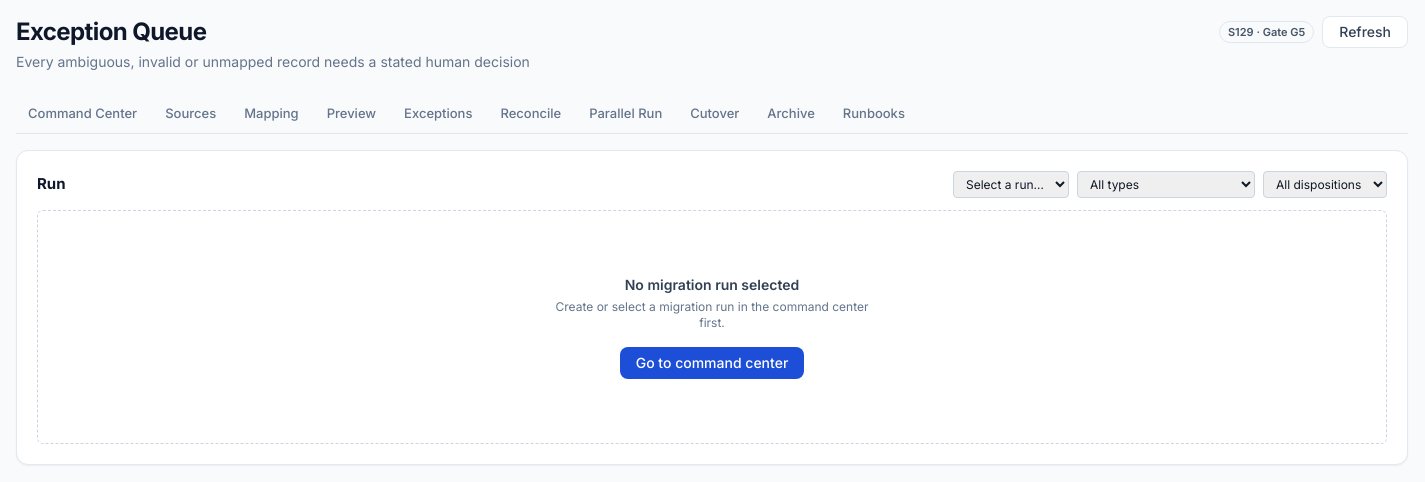
Test case: MigrationExceptions › reports an API failure
Select "run-a" in the dropdown with test id "exceptions-run-select" at (1011, 184), box [953,170,1069,198]
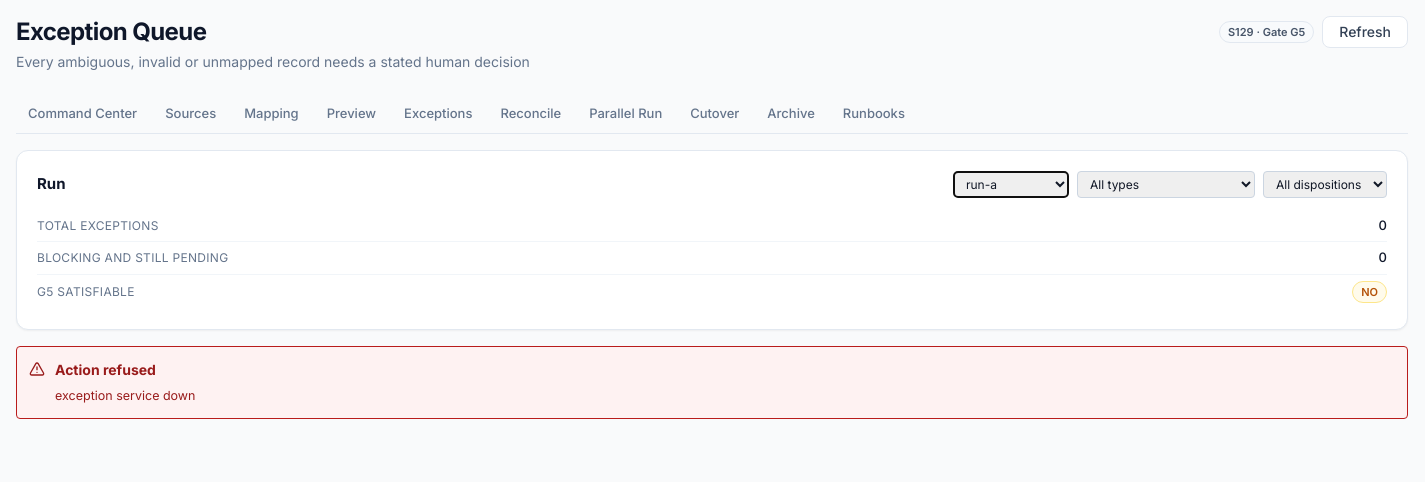
Expected: the element with test id "exceptions-error" is shown, [16,346,1408,419]
